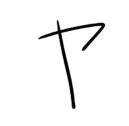ya: (33, 16, 107, 111)
